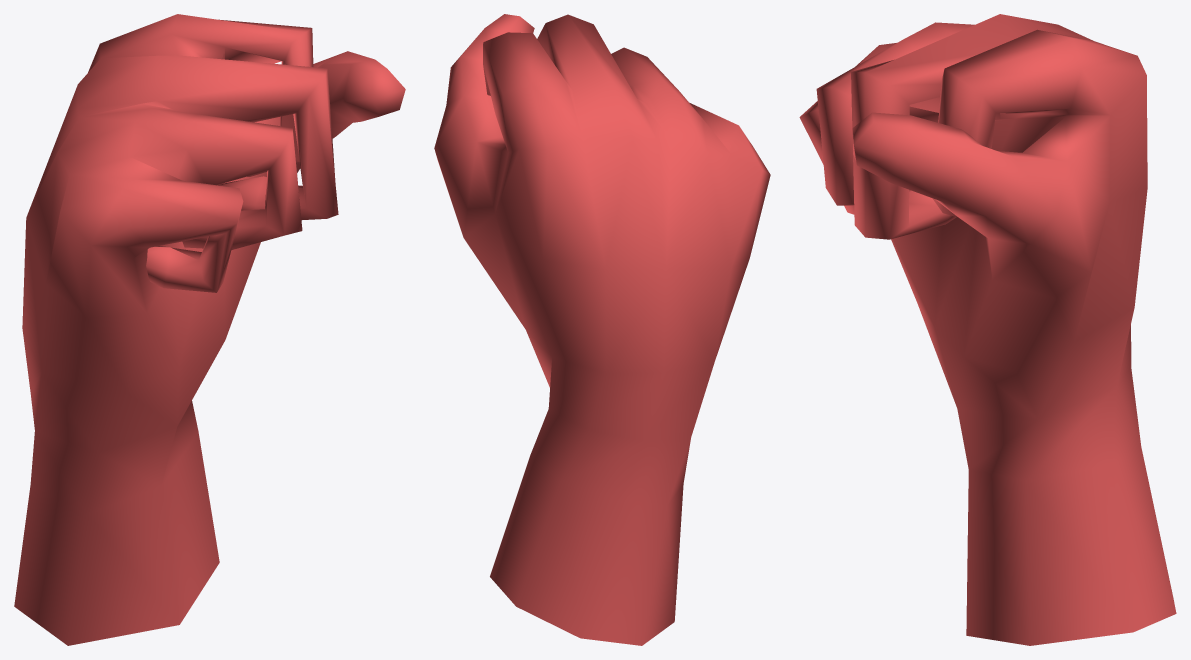
The model's file is Fist_002.fbx.
3 renders of one model, left to right at view 1: azimuth 30°, elevation 25°; view 2: azimuth 150°, elevation 25°; view 3: azimuth 270°, elevation 25°, orthographic. The views are drawn at different scales.
Visible parts, largest first — view 1: Body_Geo; view 2: Body_Geo; view 3: Body_Geo.
Boxes of the visible parts, x1,y1,x2,y2 form: Body_Geo: (14, 14, 405, 645); Body_Geo: (434, 14, 770, 645); Body_Geo: (799, 14, 1176, 645).
Size of the model in its own units: 1.75 by 2.94 by 1.56.
